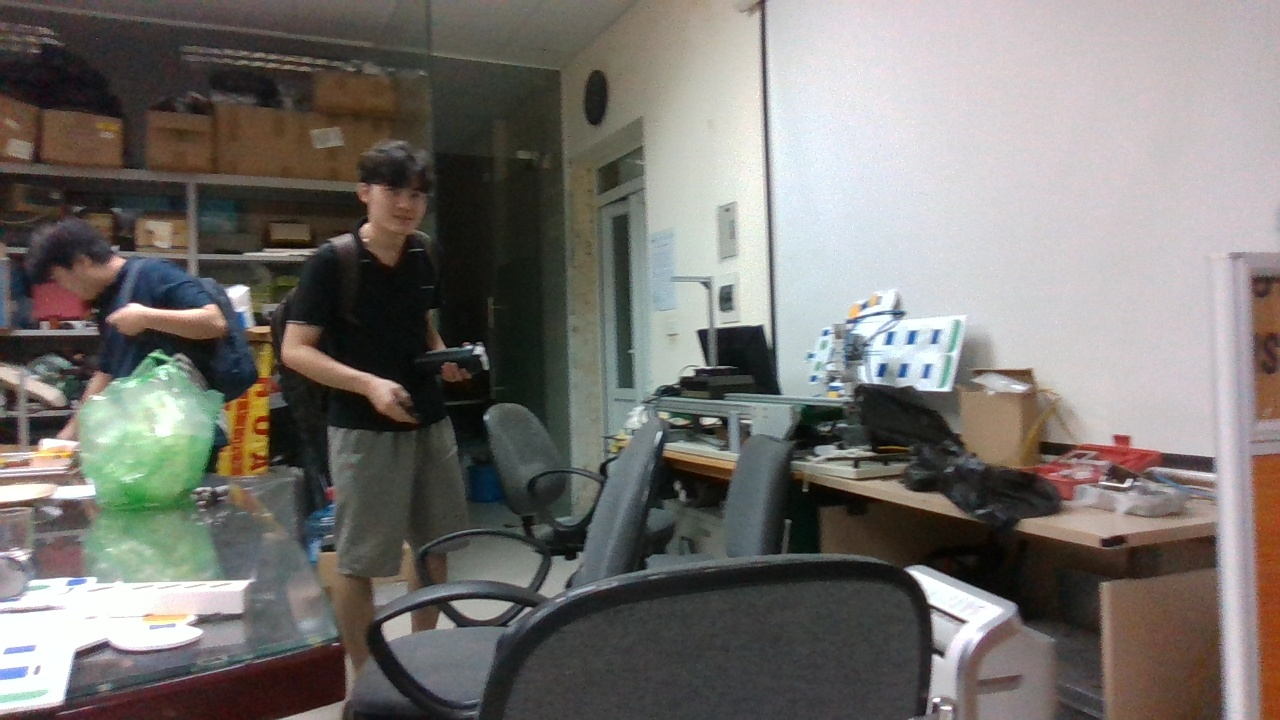person: (274, 150, 462, 632), (40, 217, 249, 411)
